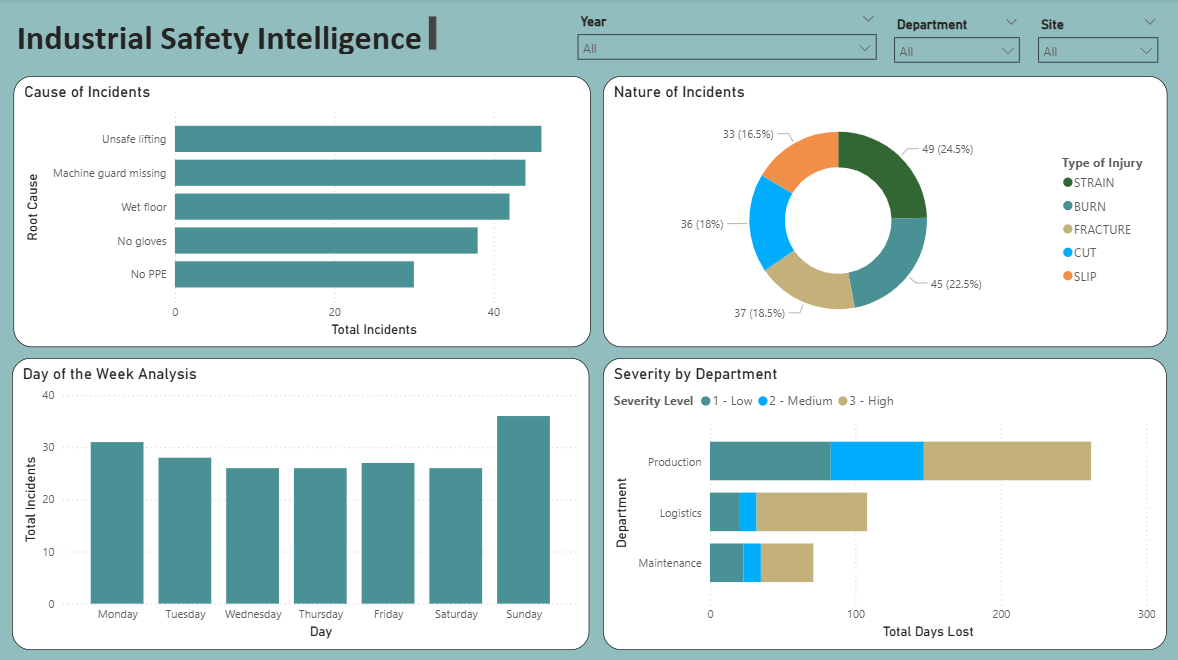

What the dashboard file says about the page in this screenshot:
{"tool":"powerbi","page":{"name":"Risk & Root Cause Analysis","canvas":[1280,720],"ordinal":1},"visuals":[{"type":"clusteredBarChart","title":"Root Cause of Incidents","fields":{"Category":["fact_incidents.root_cause"],"Y":["Measure_table.Total Incidents"]},"box":[14,84,626,294],"z":0},{"type":"donutChart","title":"Nature of Incidents","fields":{"Category":["fact_incidents.injury_type"],"Y":["Measure_table.Total Incidents"]},"box":[654,84,612,294],"z":1000},{"type":"clusteredColumnChart","title":"Day of the Week Analysis","fields":{"Category":["dim_date.Day Name"],"Y":["Measure_table.Total Incidents"]},"box":[13.3,390.9,626.1,316.4],"z":2000},{"type":"barChart","title":"Severity by Department","fields":{"Category":["dim_department.dept_name"],"Y":["Measure_table.Total Days Lost"],"Series":["fact_incidents.severity_level"]},"box":[654.3,390.9,611.2,316.4],"z":3000},{"type":"slicer","fields":{"Values":["dim_date.Year"]},"box":[616,12,344,72],"z":4000},{"type":"slicer","fields":{"Values":["dim_department.dept_name"]},"box":[960,14,156,70],"z":5000},{"type":"slicer","fields":{"Values":["dim_site.site_location"]},"box":[1116,14,150,70],"z":6000}]}

Visuals, with their boxes in screenshot pixels (x1, y1, x2, y2), scaled from the page's 1280x720 canvas onto the 1178x660 screenshot:
"Root Cause of Incidents" clusteredBarChart: bbox=(13, 77, 589, 346)
"Nature of Incidents" donutChart: bbox=(602, 77, 1165, 346)
"Day of the Week Analysis" clusteredColumnChart: bbox=(12, 358, 588, 648)
"Severity by Department" barChart: bbox=(602, 358, 1165, 648)
slicer - dim_date.Year: bbox=(567, 11, 884, 77)
slicer - dim_department.dept_name: bbox=(884, 13, 1027, 77)
slicer - dim_site.site_location: bbox=(1027, 13, 1165, 77)
